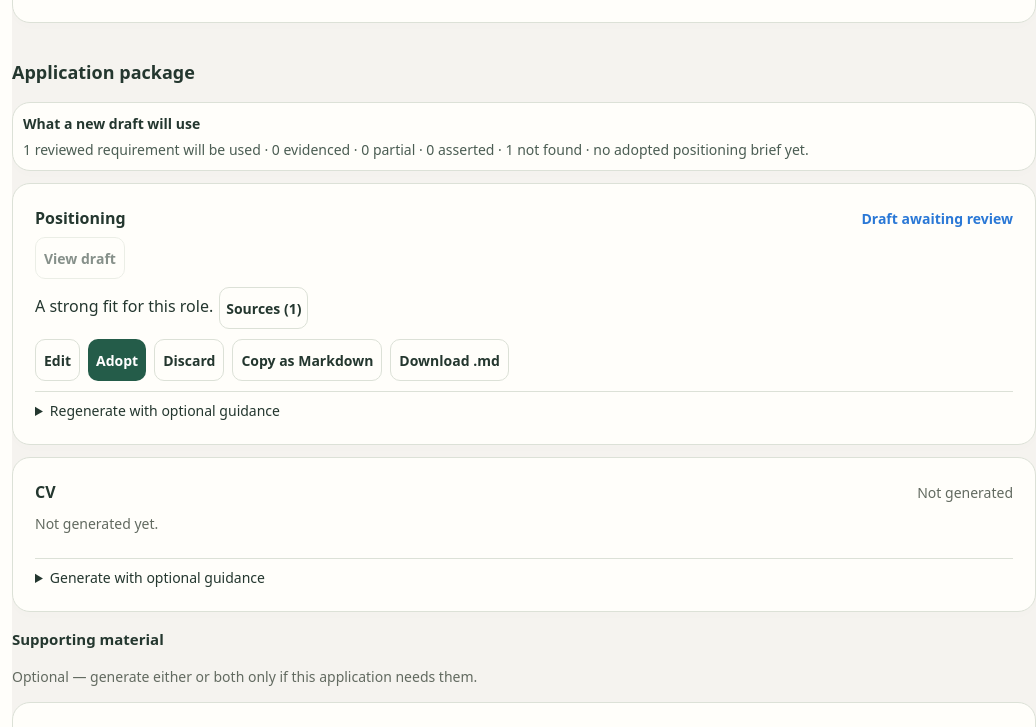
Application package (Phase 4, docs/35) › Adopt makes a draft Current; Regenerate leaves Current stable until adoption
(page scrolled)
Check: the text "Draft awaiting review" is shown, box [862,208,1013,230]
Click the button "Adopt" at (117, 360), box [88,339,146,381]
(page scrolled)
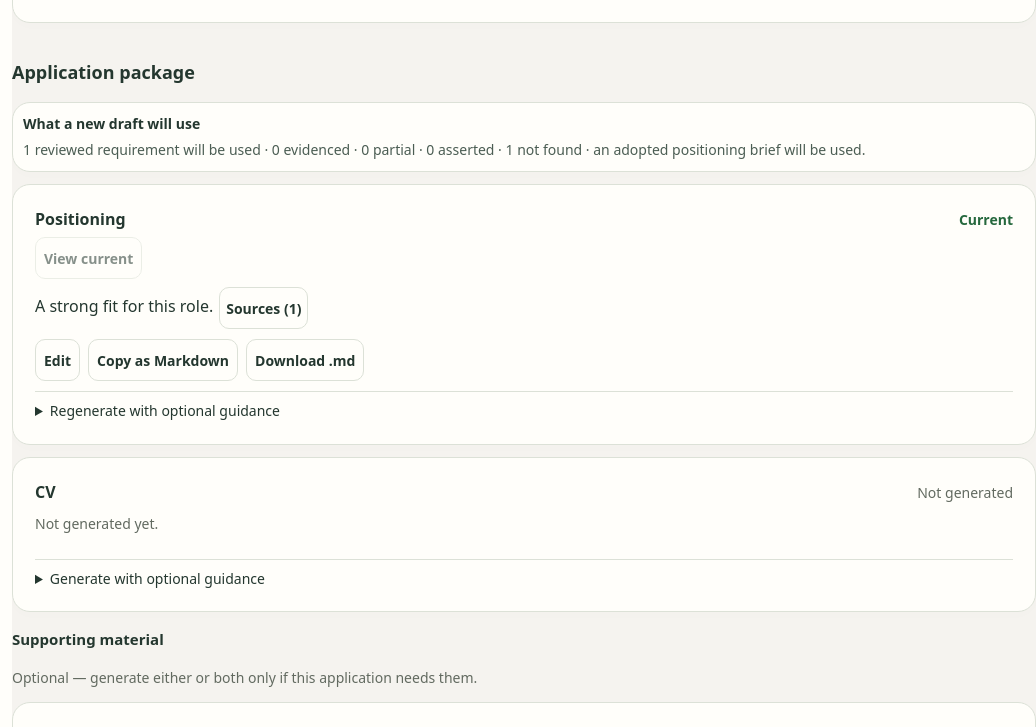
Check: the text "Current" is shown, box [959,209,1013,230]
